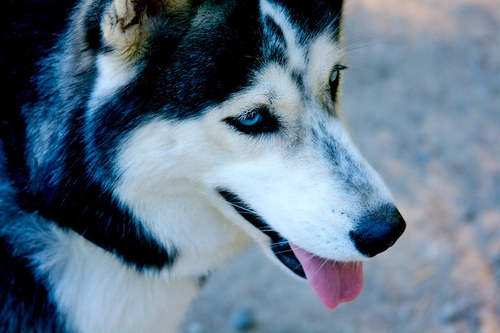dog: (1, 0, 406, 331)
